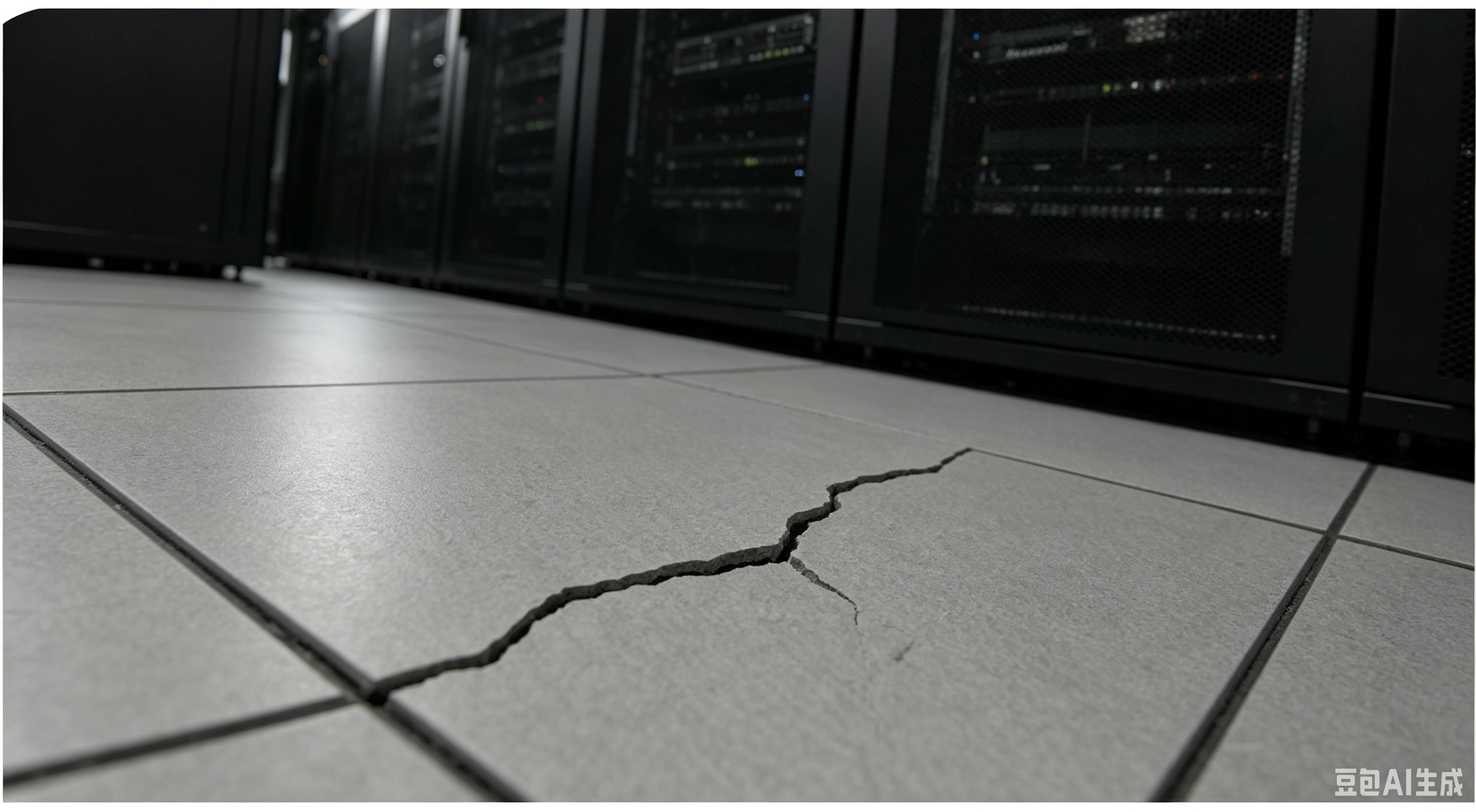floor_defect: (674, 522, 868, 624), (356, 619, 542, 708), (514, 568, 739, 616), (781, 468, 909, 518), (862, 432, 977, 482)
